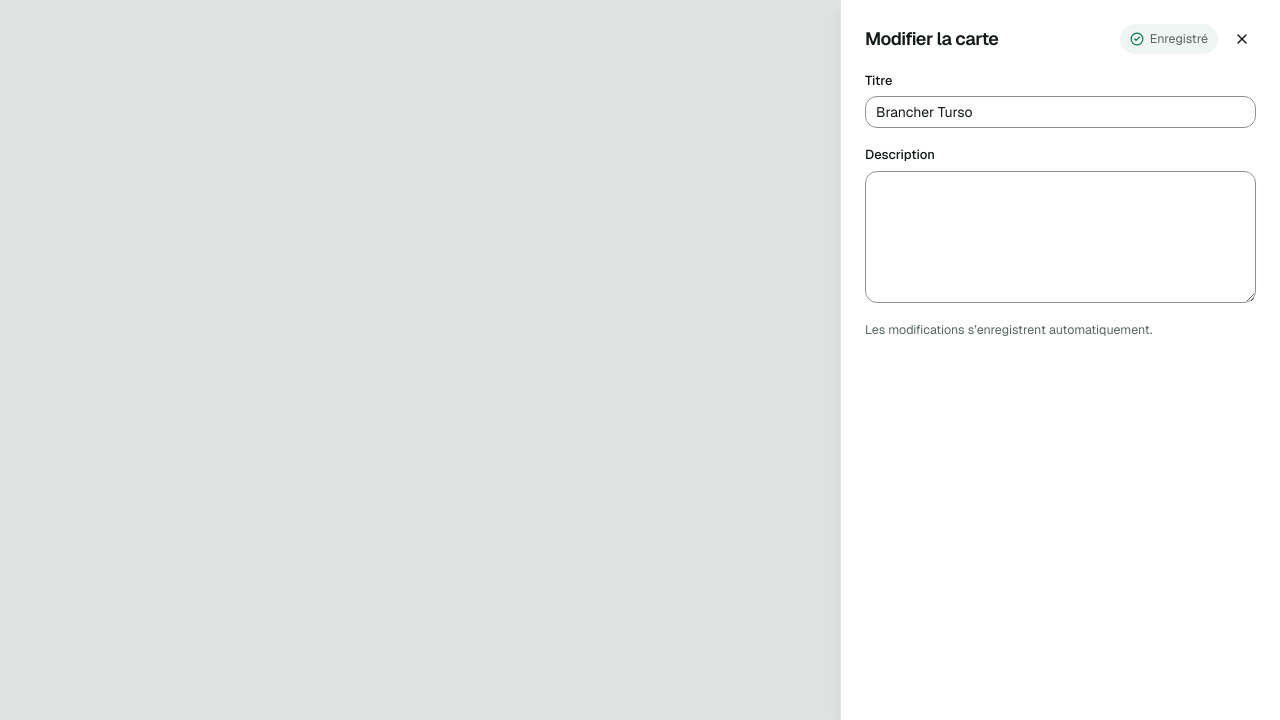
CardEditor › refuse le titre  avec un message, sans rien envoyer
Clear the field labelled "Titre" at point(1060, 112), box [865,96,1256,128]
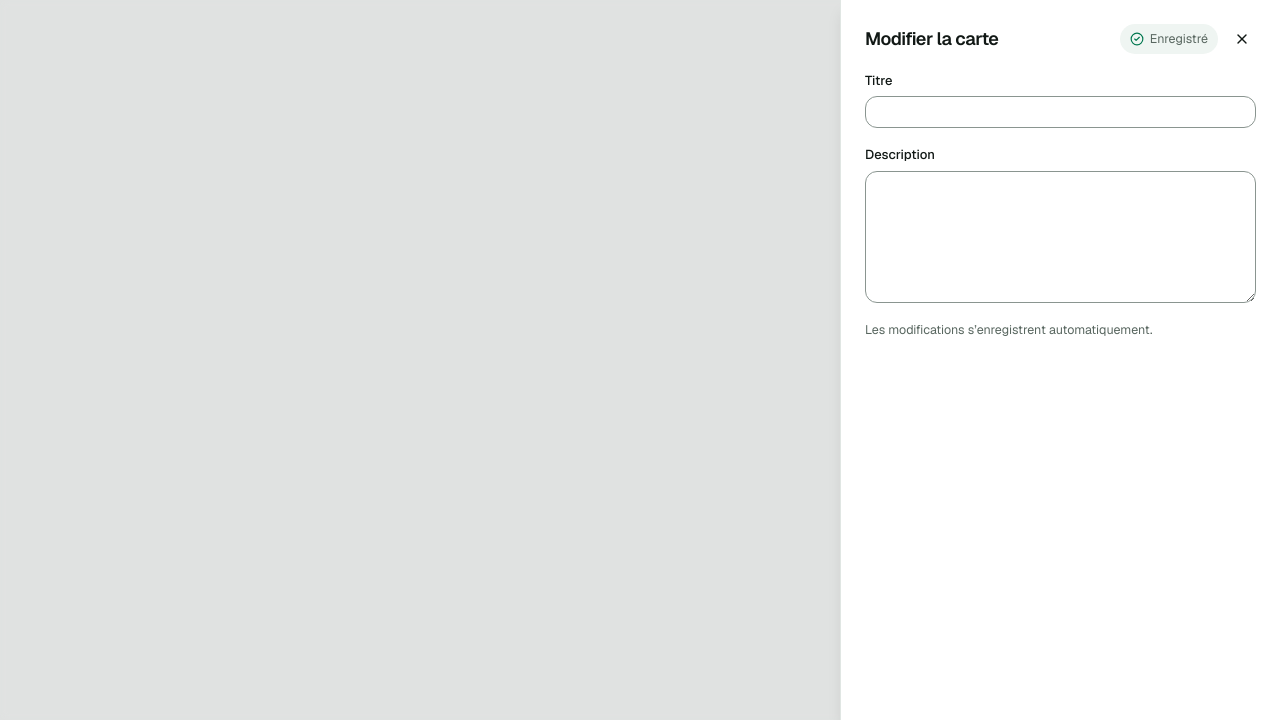
Leave the field labelled "Titre", box [865,96,1256,128]
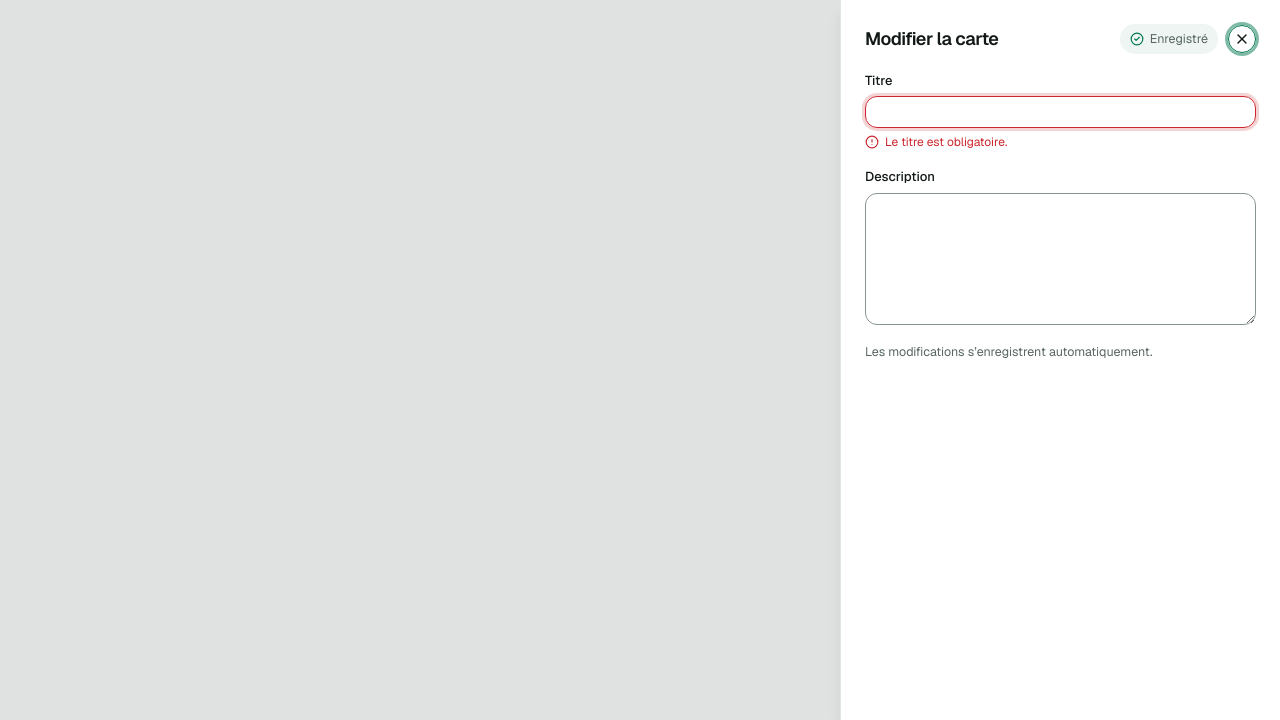
expect the text "Le titre est obligatoire." is shown: met, box [865,134,1007,150]
